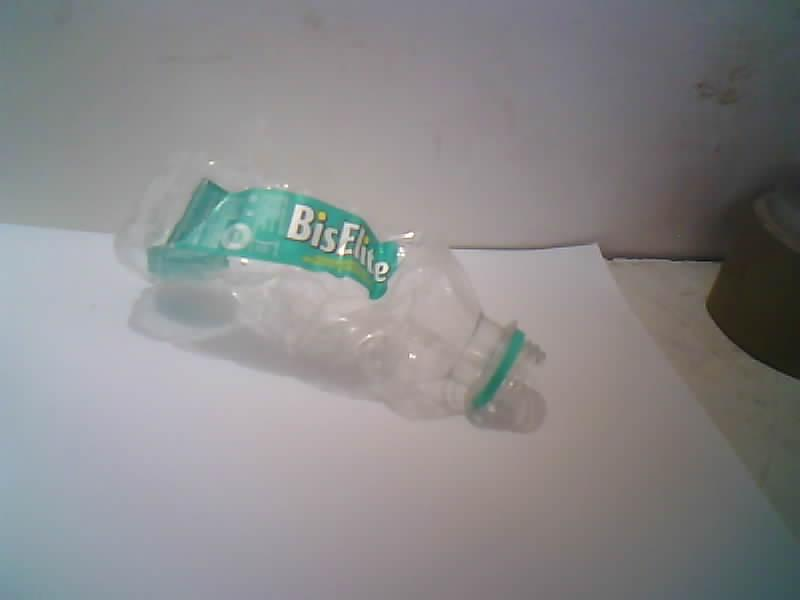non-biodegradable: (115, 157, 545, 431)
